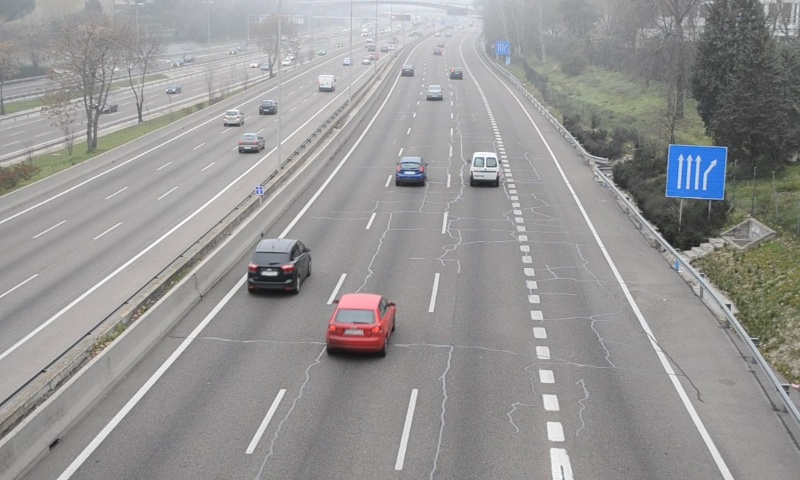car: (326, 292, 394, 353), (248, 240, 310, 294), (396, 156, 426, 186), (425, 84, 443, 101)
van: (470, 151, 500, 186)
